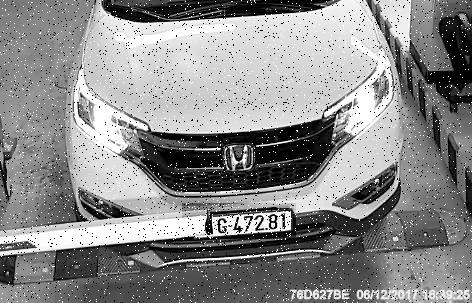License-plate: (183, 204, 297, 240)
